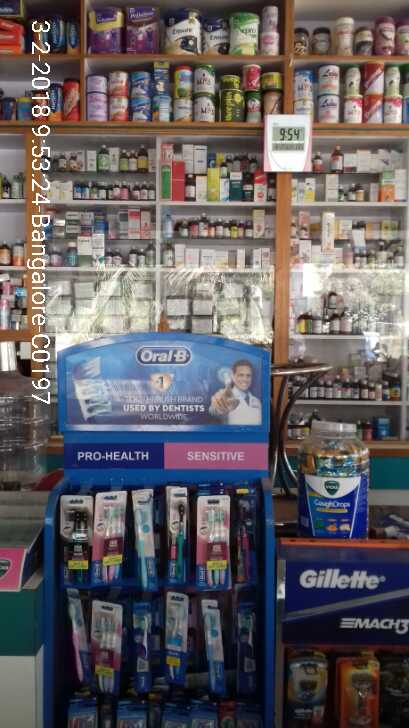pharmacy: (58, 485, 261, 593), (73, 600, 262, 698), (299, 419, 375, 539)
